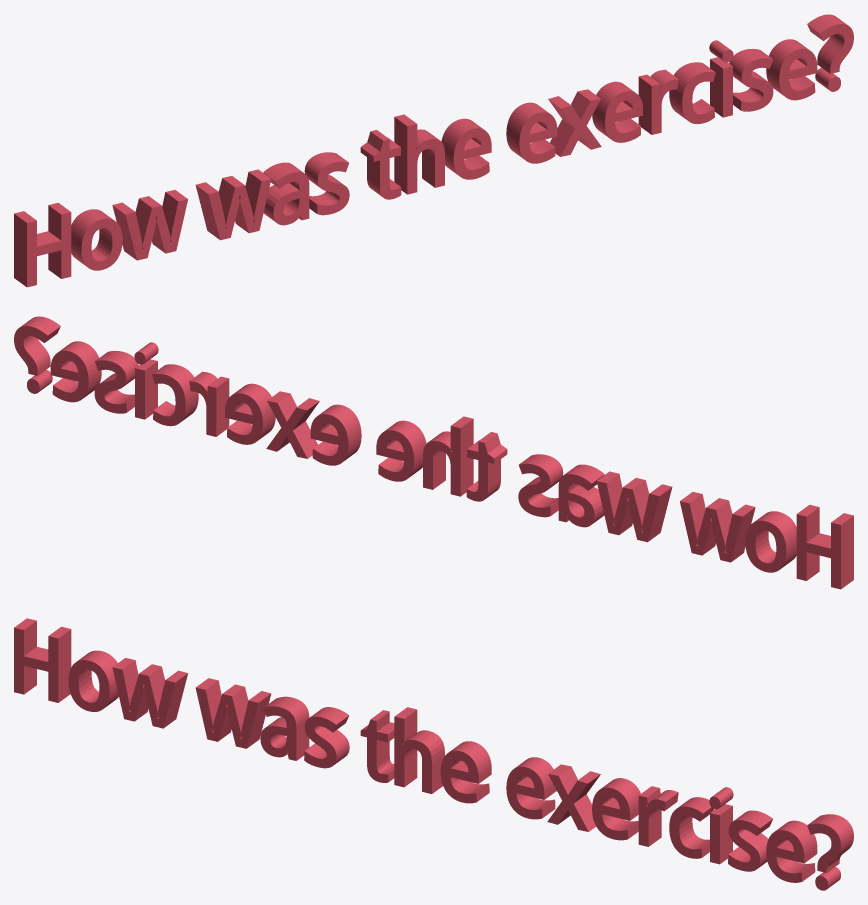
File: Howwasit.fbx
3 renders of one model, top to bottom at view 1: azimuth 30°, elevation 25°; view 2: azimuth 150°, elevation 25°; view 3: azimuth 330°, elevation 25°, orthographic.
Parts seen in each view (by area): view 1: tinker:group_0_15277357; view 2: tinker:group_0_15277357; view 3: tinker:group_0_15277357.
Part boxes in pixels (left/top/right/bottom): tinker:group_0_15277357: left=14, top=14, right=853, bottom=287; tinker:group_0_15277357: left=14, top=316, right=853, bottom=589; tinker:group_0_15277357: left=14, top=618, right=853, bottom=890.
Bounding box in the file's own units: 278 × 22.35 × 7.56.
